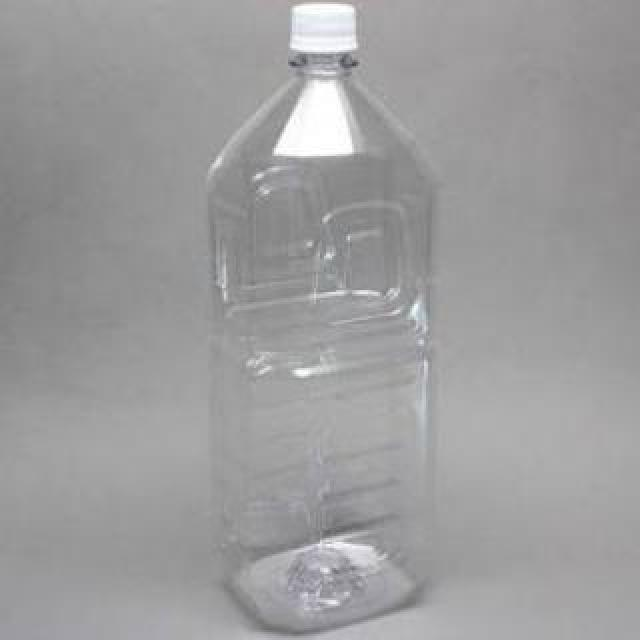Pet_Bottle: (205, 6, 449, 624)
